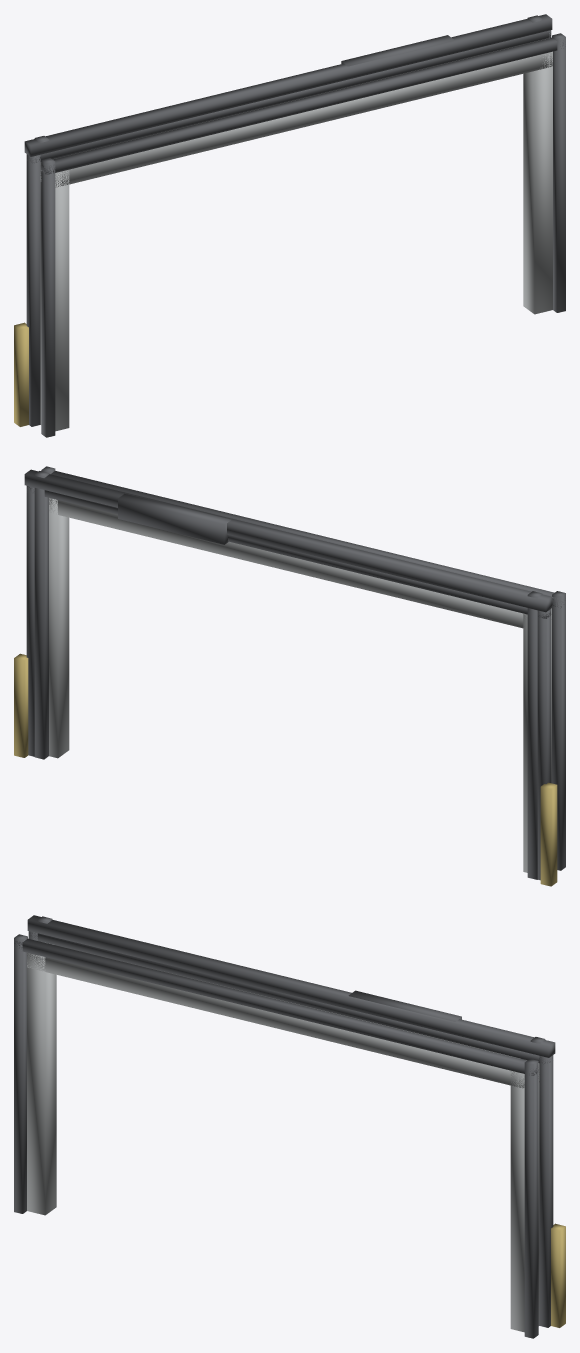
File: bay_opening_loading_bay_w480_h240_d20.glb
The picture shows the model from 3 angles, top to bottom: view 1: azimuth 30°, elevation 25°; view 2: azimuth 150°, elevation 25°; view 3: azimuth 330°, elevation 25°; orthographic projection.
Parts seen in each view (by area): view 1: world; view 2: world; view 3: world.
Part boxes in pixels (<box>): world: <box>14,14,565,437</box>; world: <box>14,466,565,886</box>; world: <box>14,915,565,1338</box>.
Bounding box in the file's own units: 5.54 × 2.79 × 0.422.
